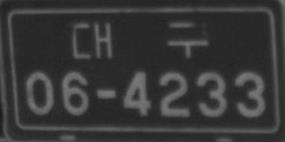0: (24, 70, 56, 117)
2: (158, 70, 191, 117)
3: (233, 71, 267, 118), (196, 71, 227, 118)
4: (122, 70, 151, 116)
6: (62, 69, 89, 117)
대구_D: (72, 15, 210, 60)
